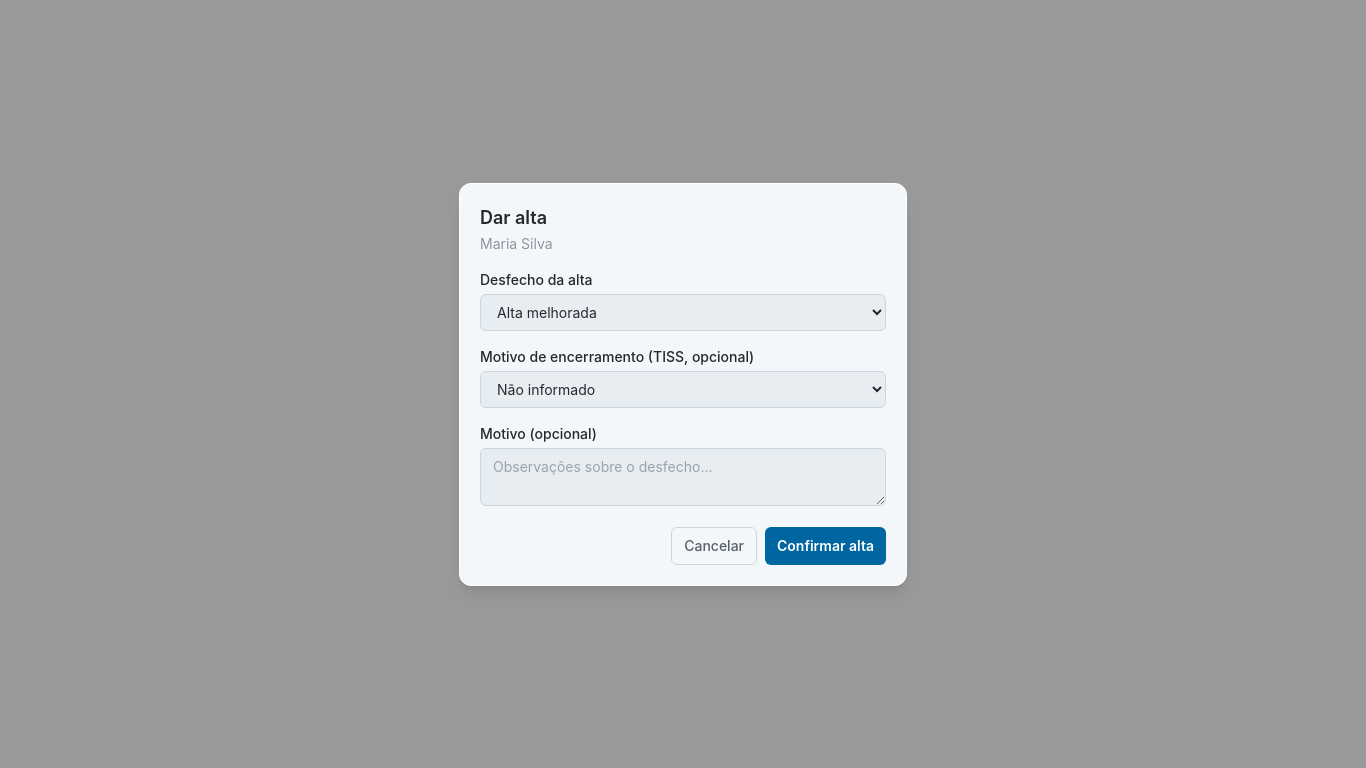
DischargeModal › surfaces a 409 conflict with a friendly message
What coordinates should you click on to do the following:
click the button "Confirmar alta"
I would click on:
 (826, 546)
Its box is [765,526,886,564].
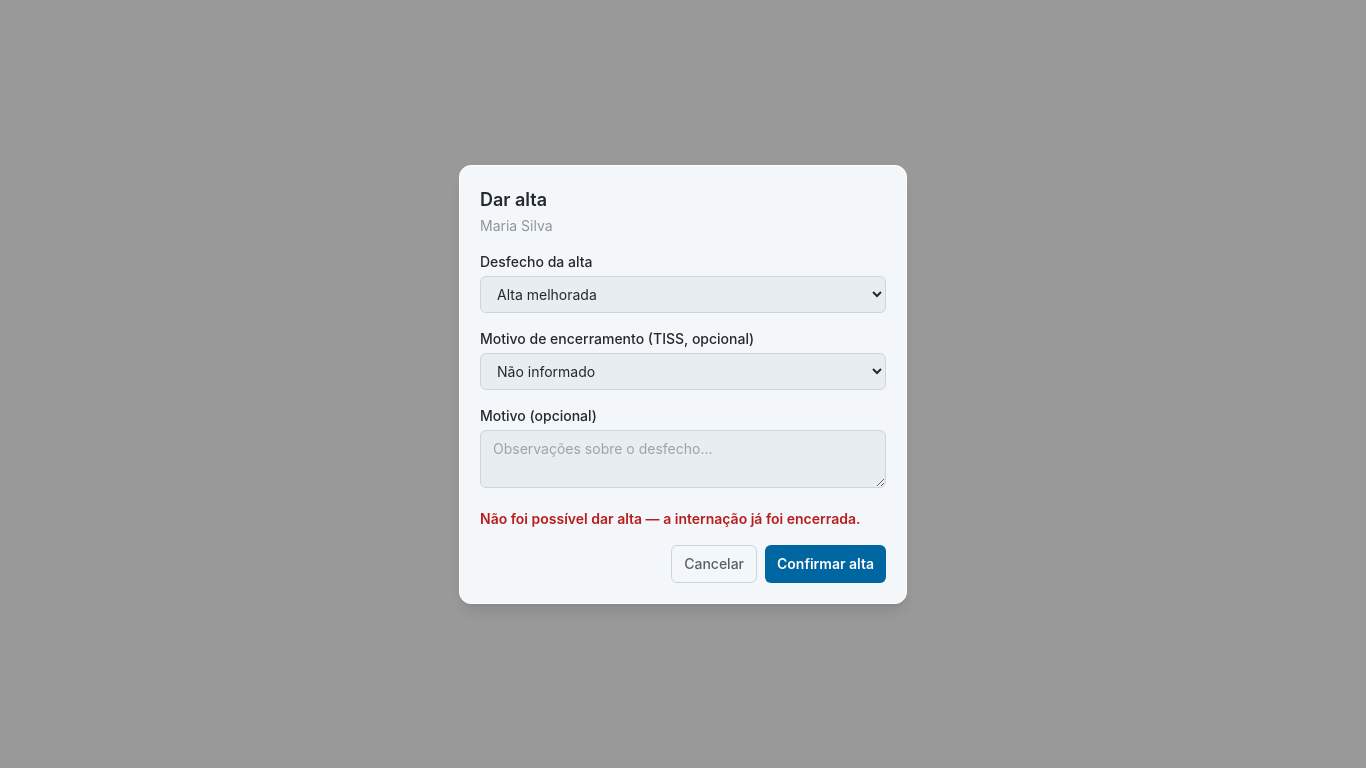
Expected: the text "Não foi possível dar alta — a internação já foi encerrada." is shown, [480,508,886,528]
